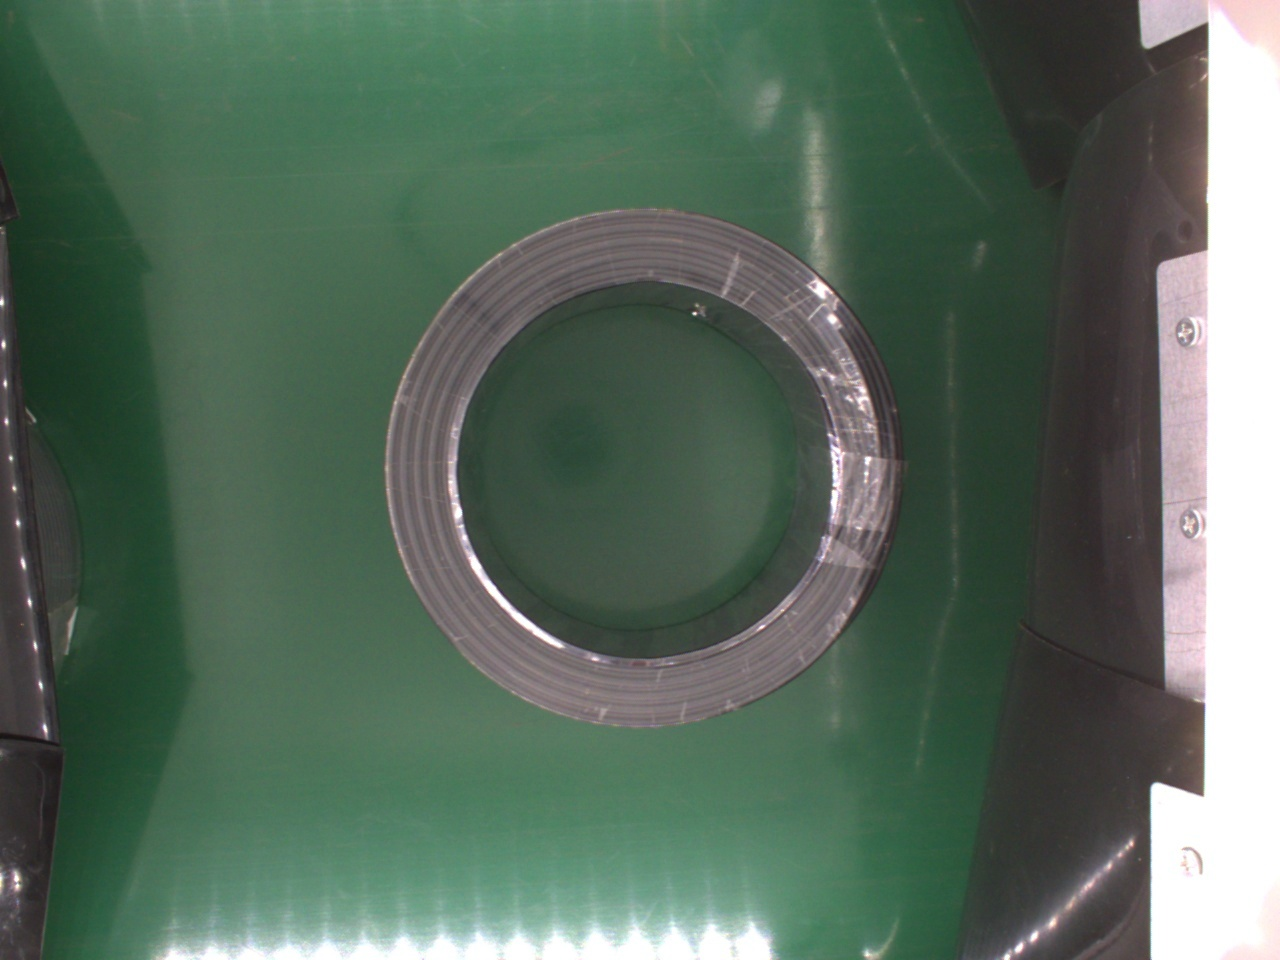black: (381, 206, 903, 726)
